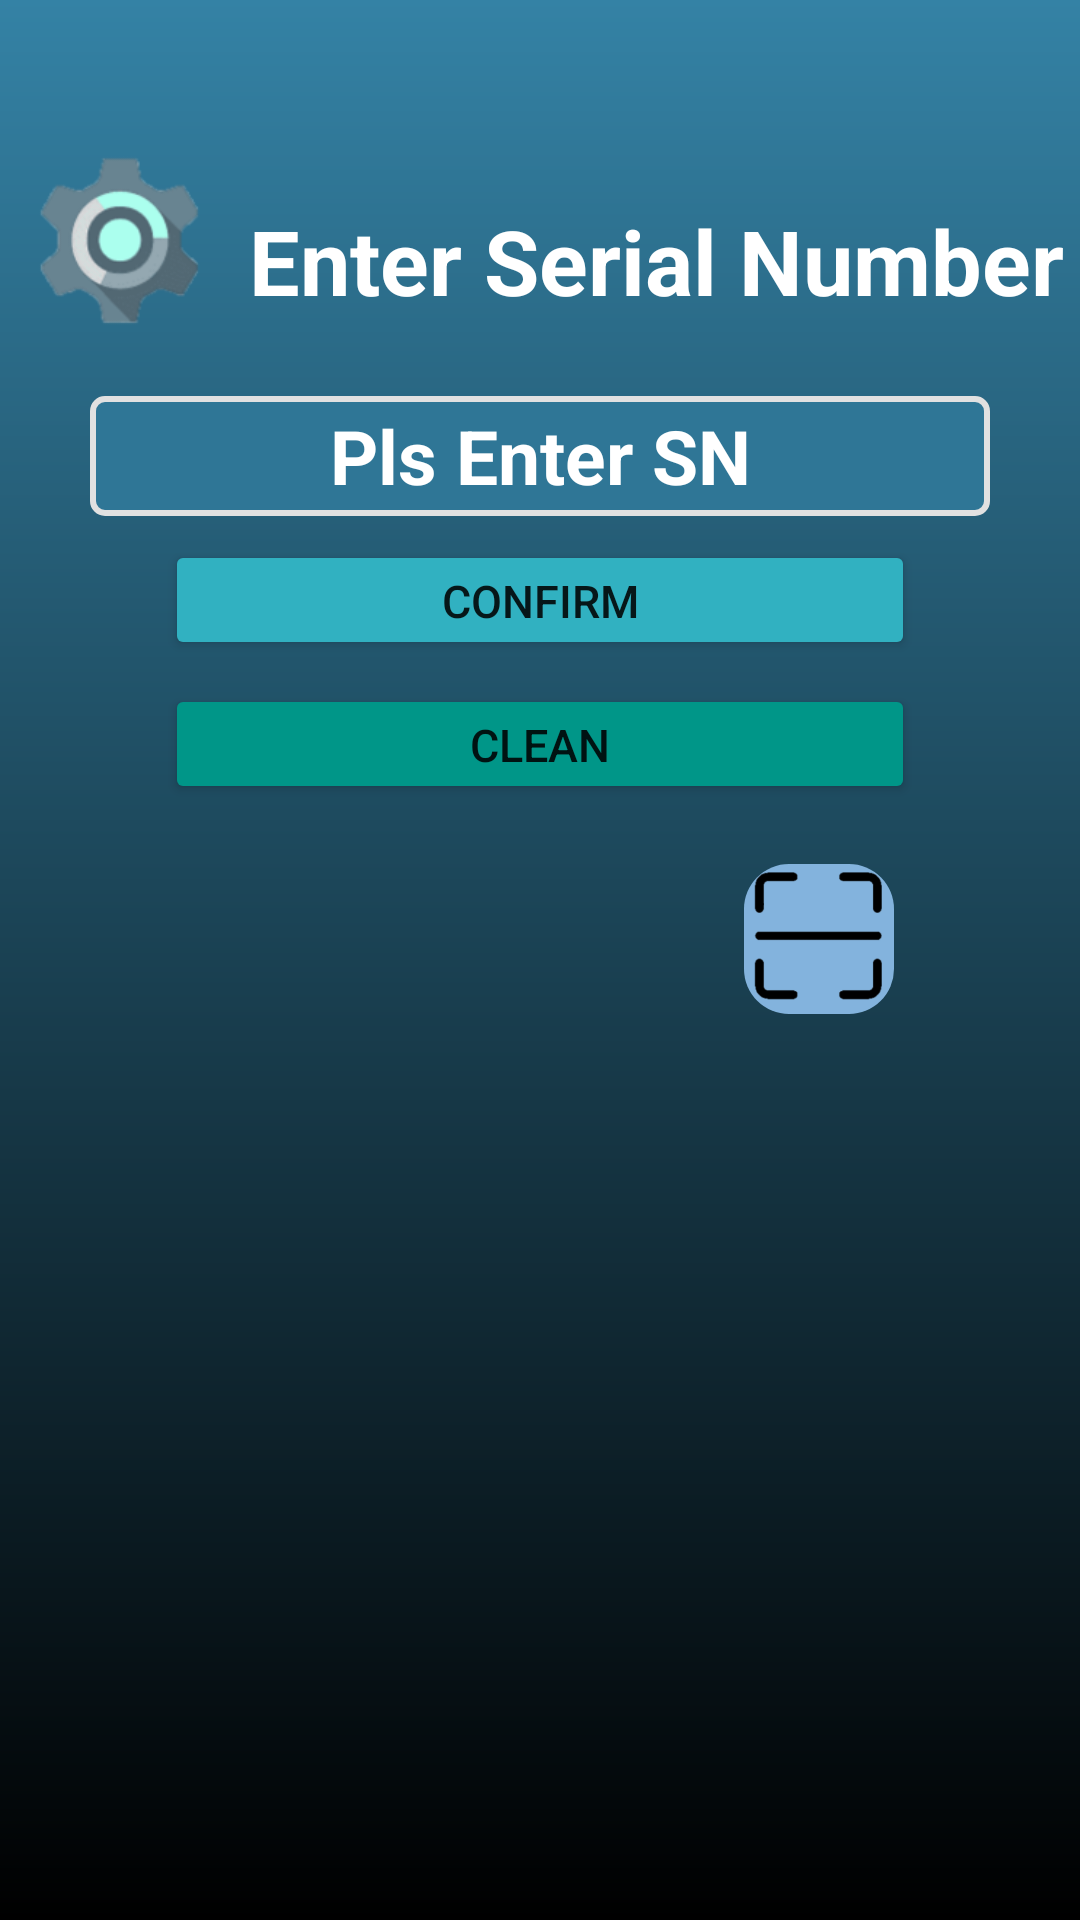

Locate icon controls on the screen. Image size 1080px x 1920px, boxes as (x1, y1, x2, y2).
scan: (744, 864, 894, 1014)
